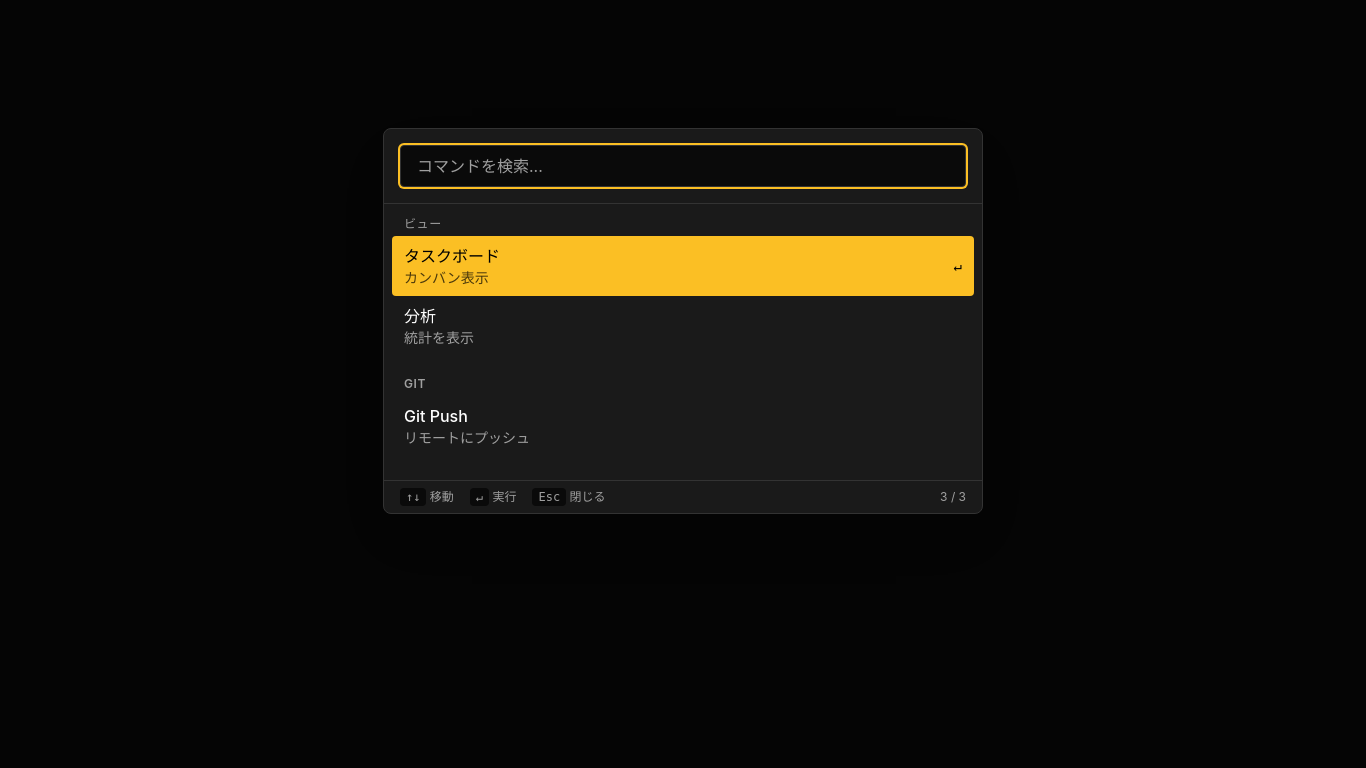
Test: CommandPalette › shows no-results message when no commands match
This screenshot has width=1366, height=768.
Step 1. Type "zzzzzzz" into the field with placeholder "コマンドを検索..." → (683, 166), box [400, 145, 966, 187]
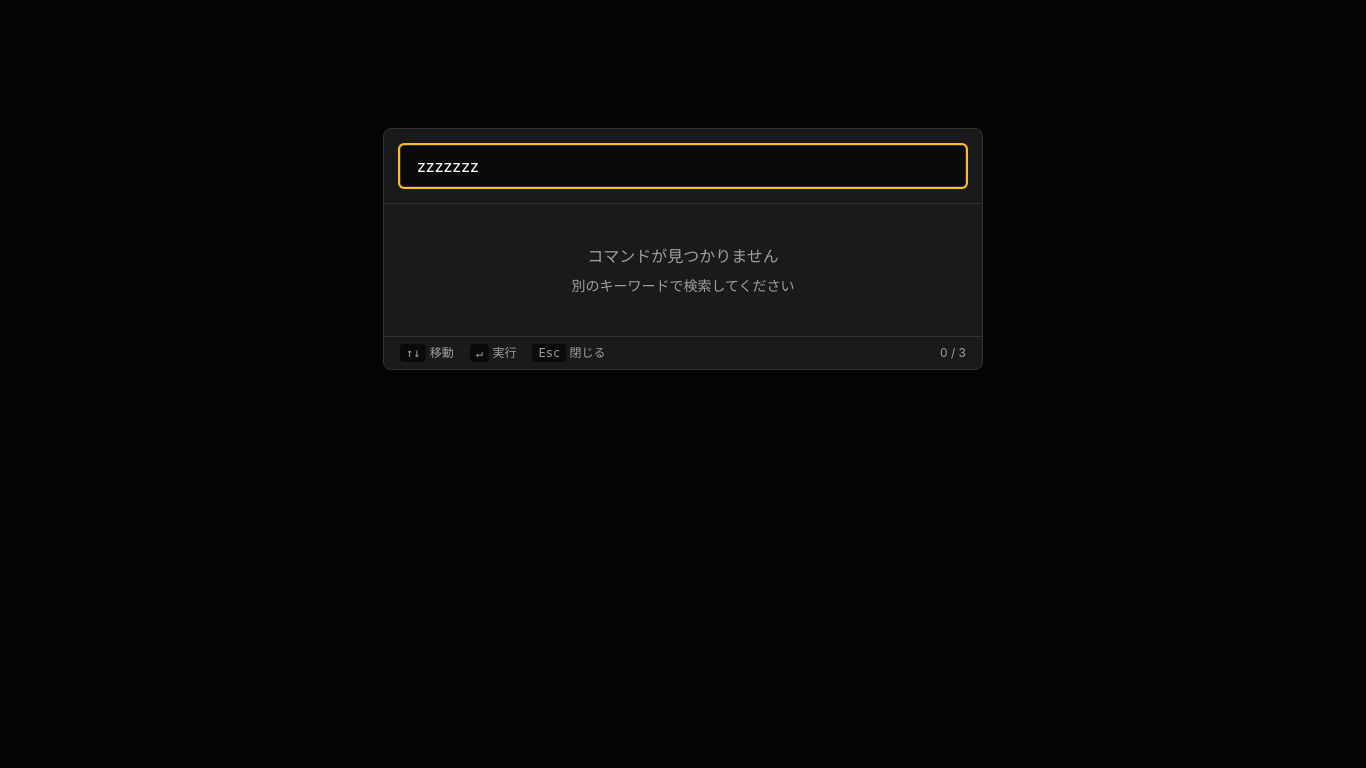
Result: the text "コマンドが見つかりません" is shown at [587, 246, 779, 266]
